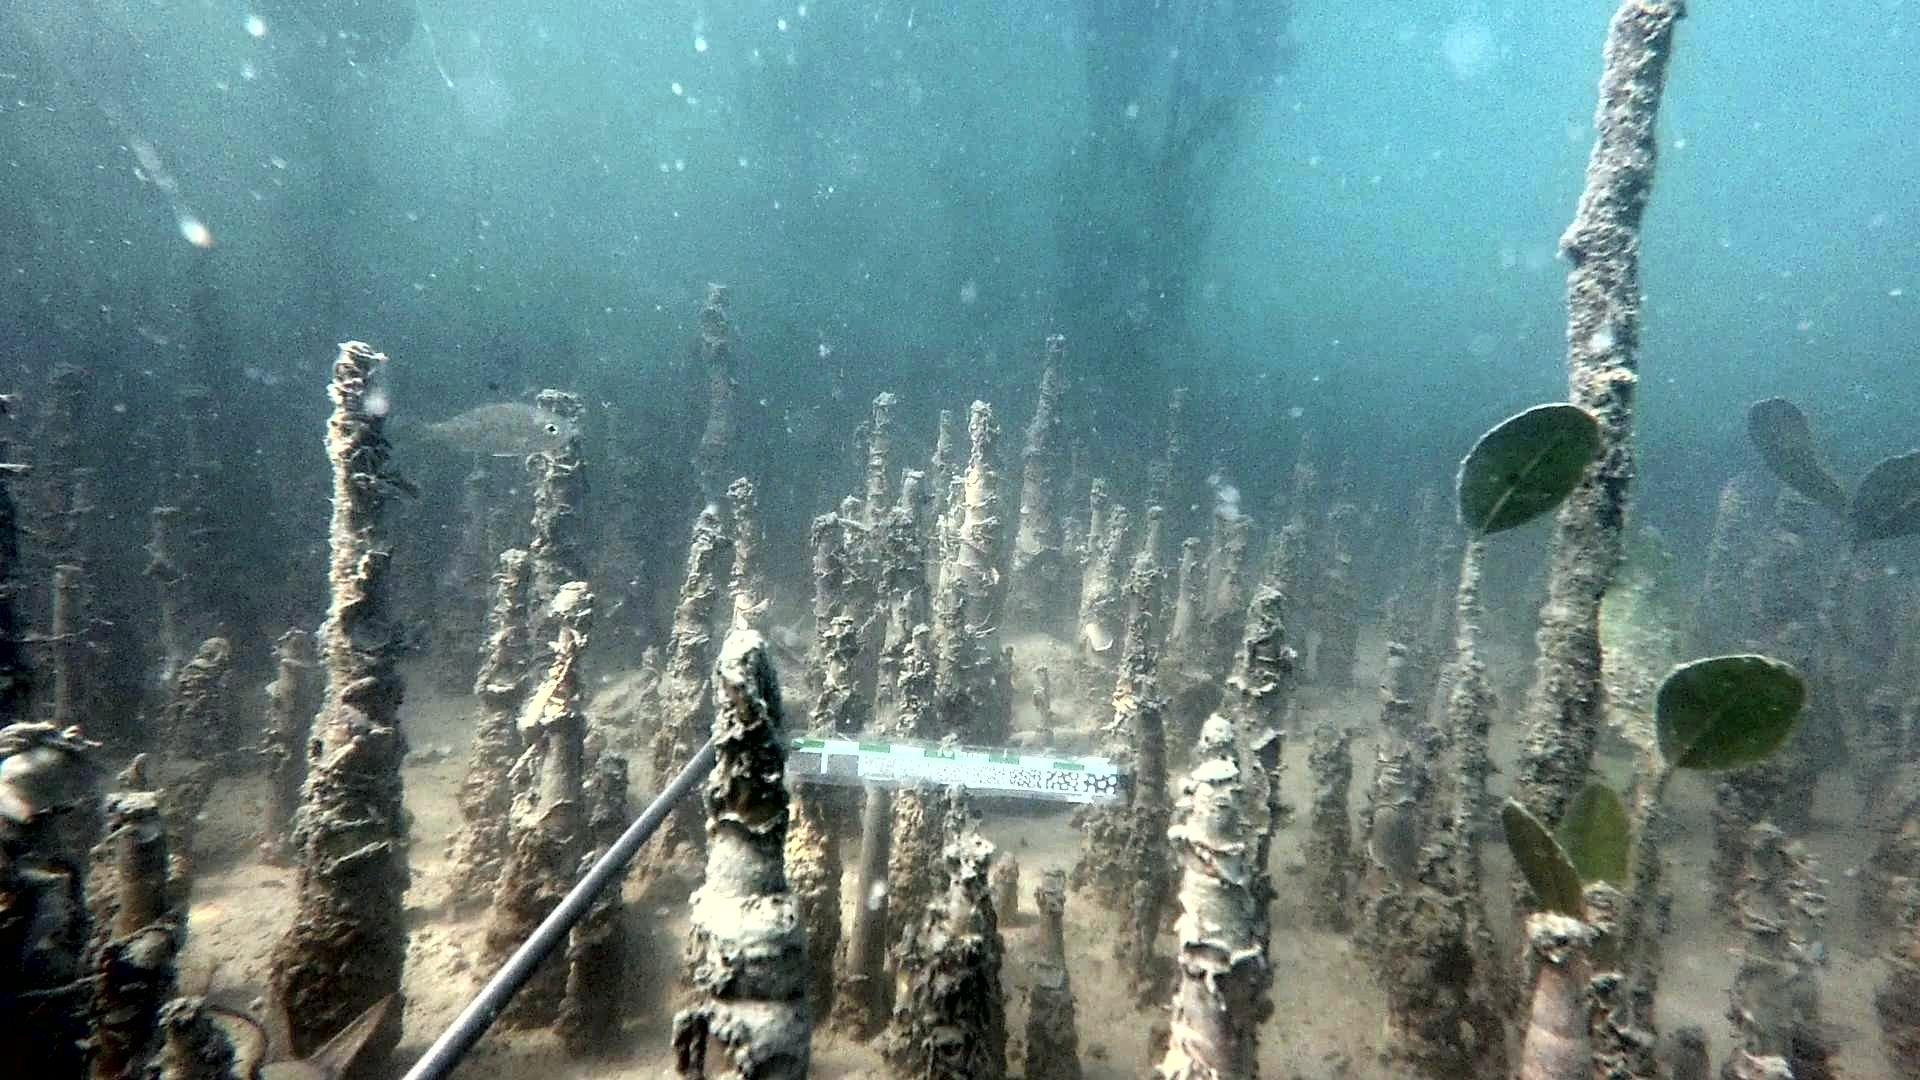gerres: (393, 380, 578, 461)
